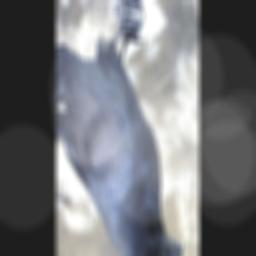Crow: (58, 0, 191, 256)
